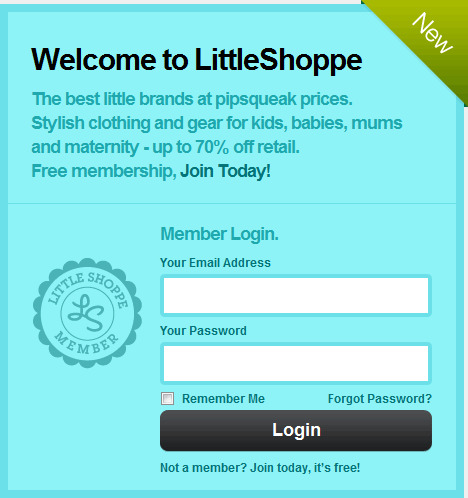_form_: (49, 82, 465, 498)
button: (160, 409, 432, 452)
checkbox: (161, 390, 175, 407)
checkbox_with_label: (158, 388, 265, 407)
field: (160, 274, 433, 318), (160, 343, 432, 386)
field_with_label: (158, 256, 435, 320), (158, 325, 434, 387)
